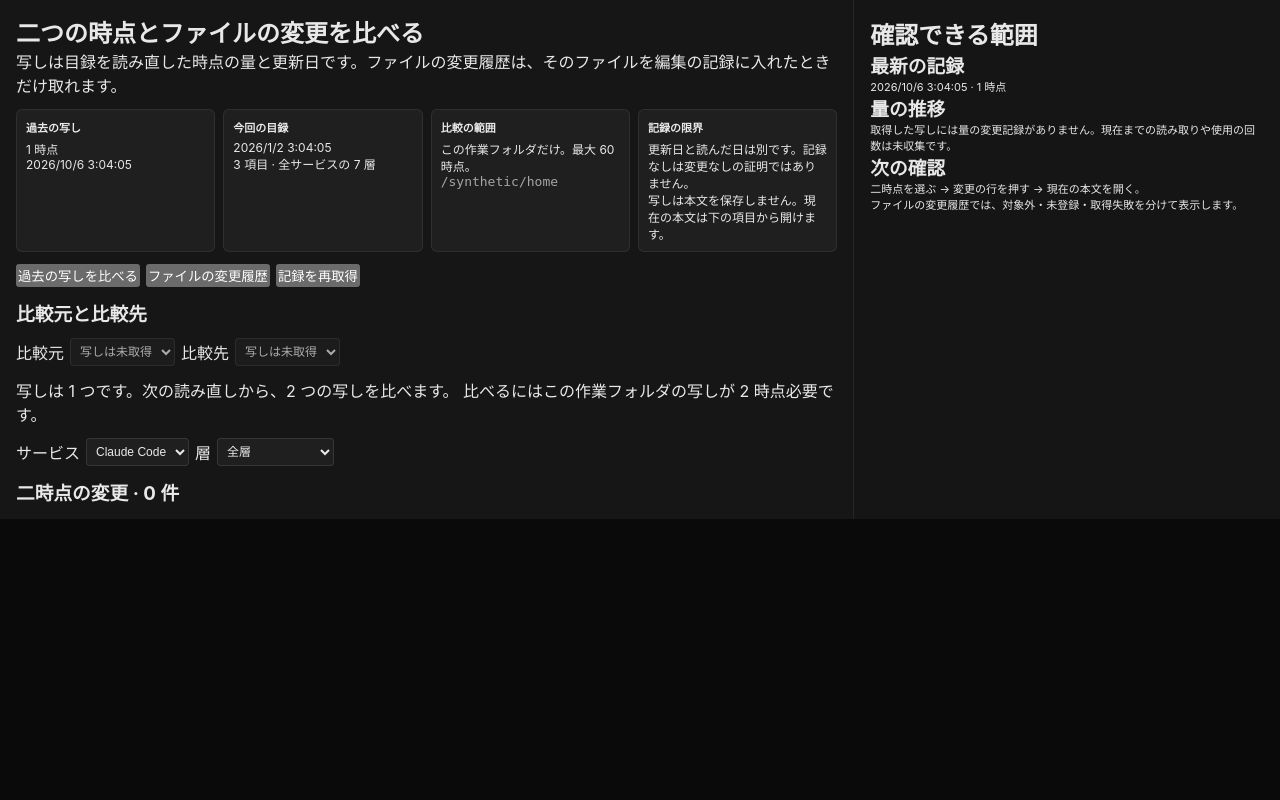
Scenario: agent design history › handles the one-snapshot and missing Git empty state
Click the button "ファイルの変更履歴".
click(208, 276)  # box [146,264,270,287]
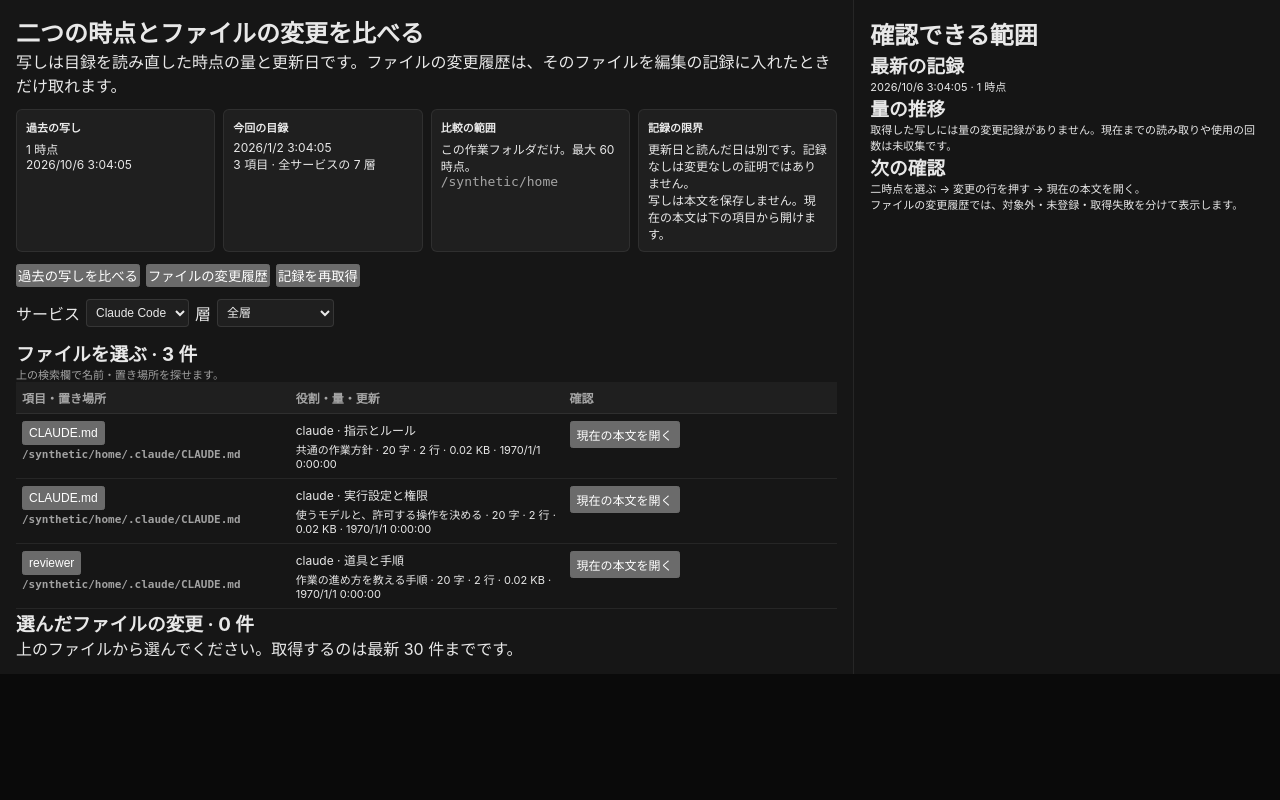
Click the button "CLAUDE.md" in the row of "指示とルール".
click(63, 433)  # box [22,421,105,445]
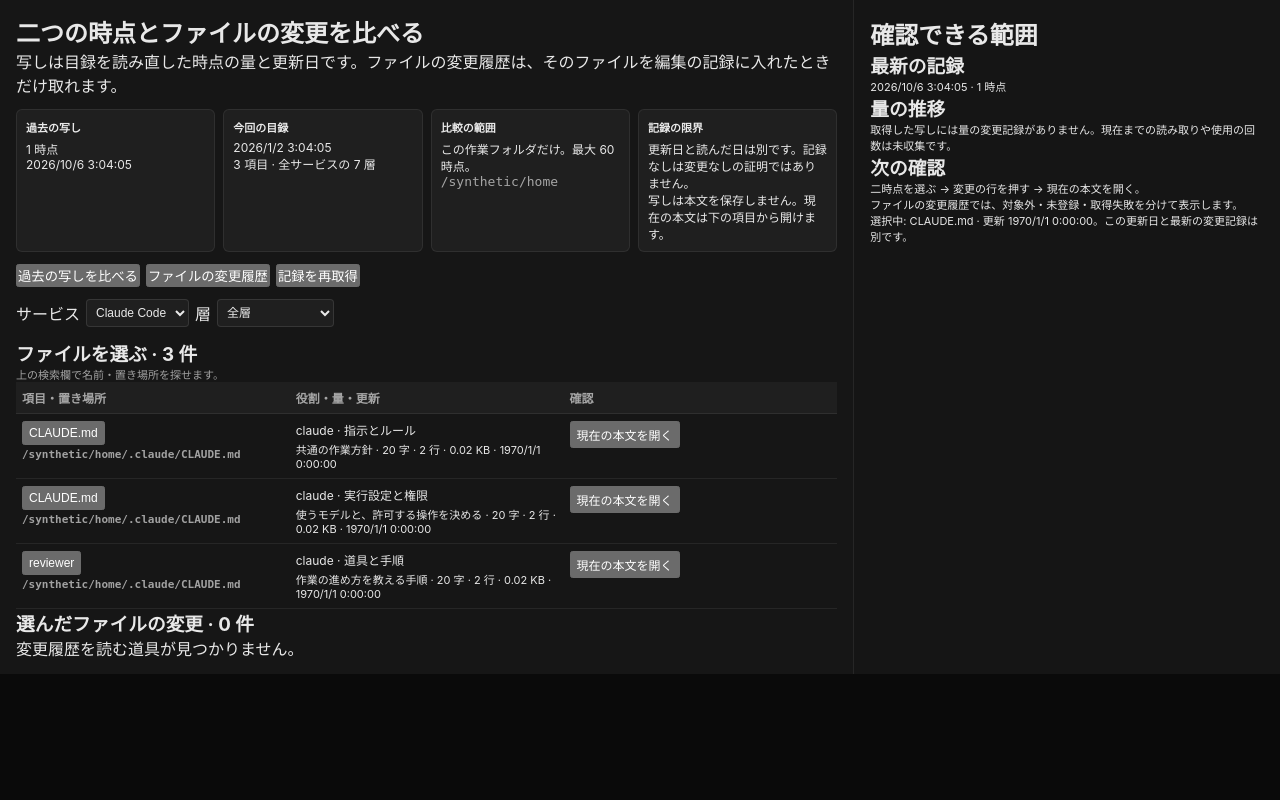
Check: the text "変更履歴を読む道具が見つかりません" is shown, box [16,639,304,659]
